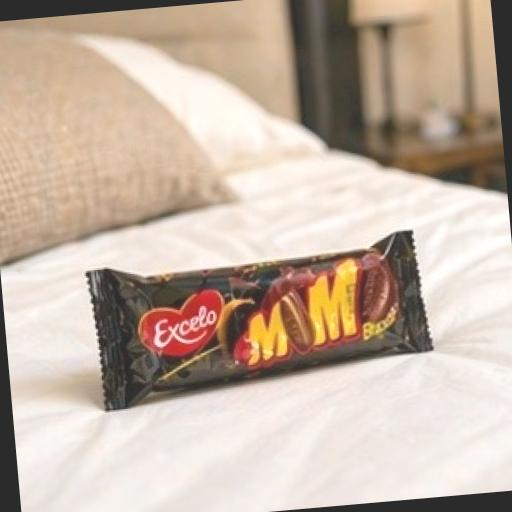MOMO: (53, 188, 475, 466)
